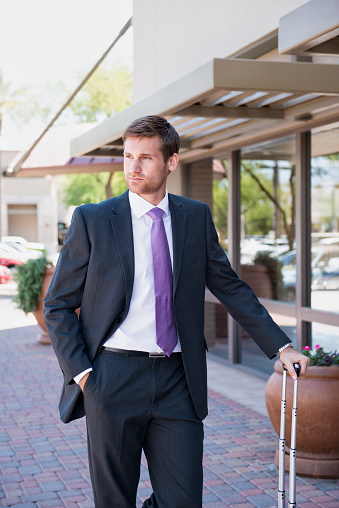em pe: (47, 112, 262, 507)
